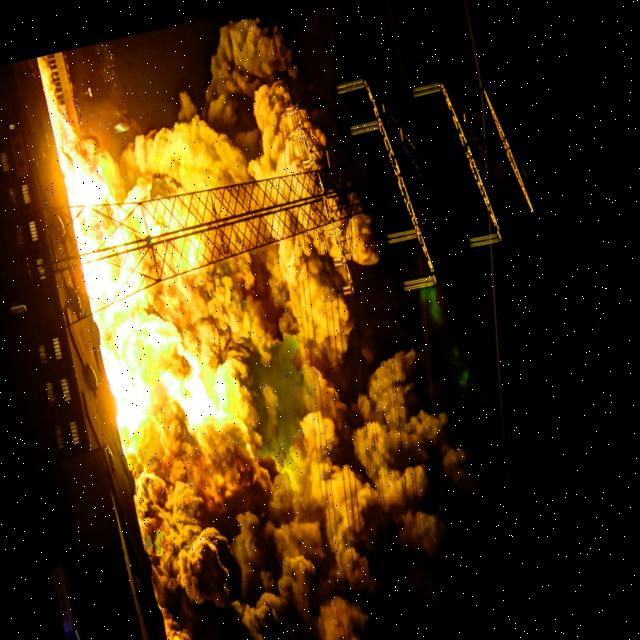explosion: (0, 0, 483, 640)
